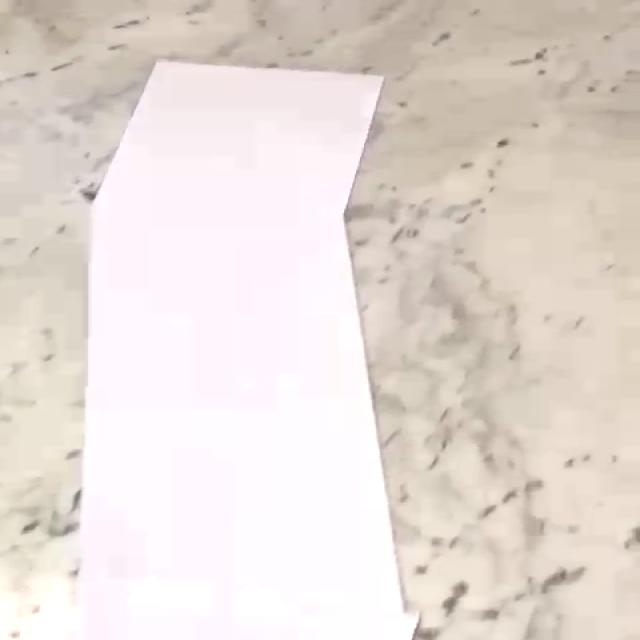road: (73, 60, 419, 640)
